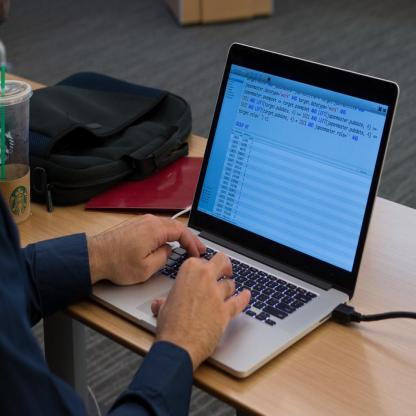board: (89, 43, 400, 376)
